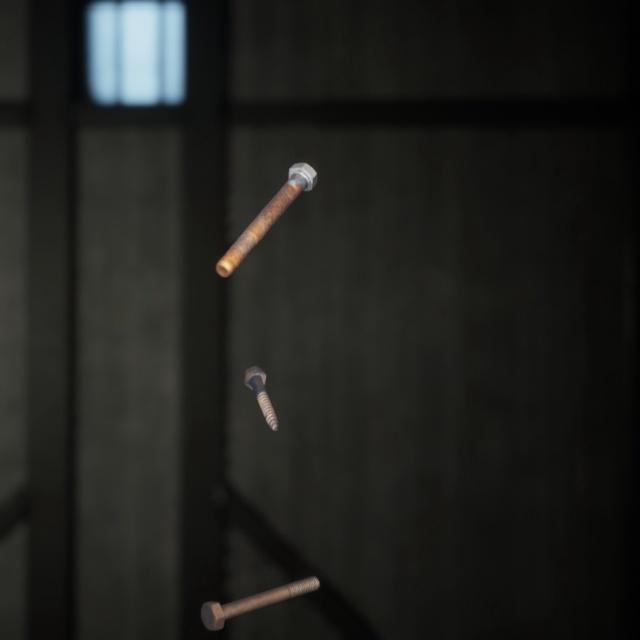bolt: (211, 142, 321, 265), (196, 548, 324, 610), (238, 341, 283, 415)
